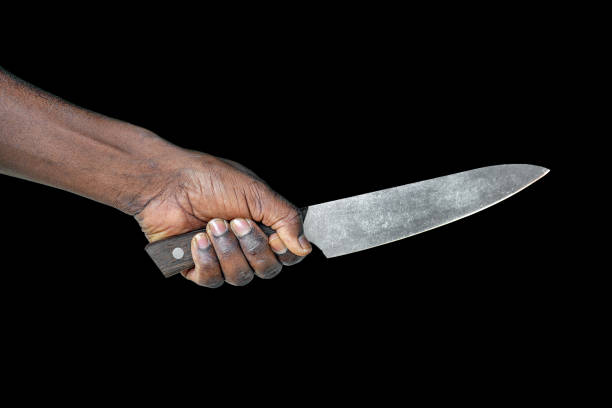knife: (142, 161, 553, 281)
